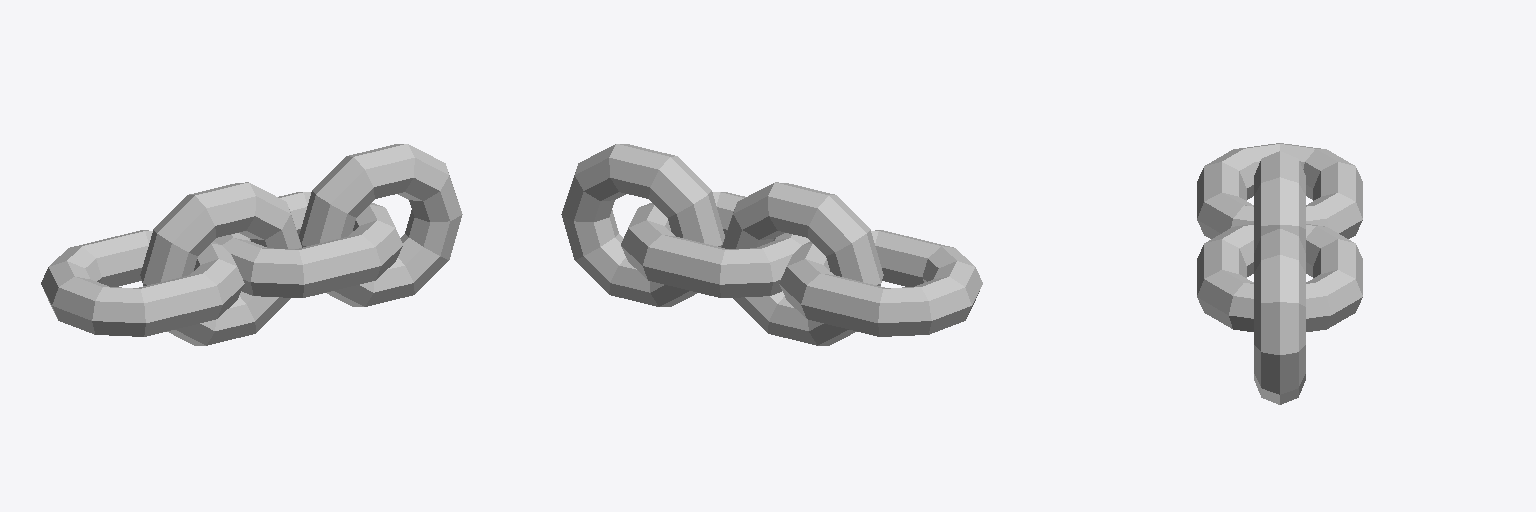
File: Chain02.obj
3 views of the same model, side by side, from view 1: azimuth 30°, elevation 25°; view 2: azimuth 150°, elevation 25°; view 3: azimuth 270°, elevation 25° (orthographic).
Parts seen in each view (by area): view 1: Chain02; view 2: Chain02; view 3: Chain02.
Boxes of the visible parts, x1,y1,x2,y2 form: Chain02: [41, 144, 462, 345]; Chain02: [561, 144, 982, 345]; Chain02: [1197, 143, 1362, 404].
Bounding box in the file's own units: 2.57 × 0.9077 × 0.9077.